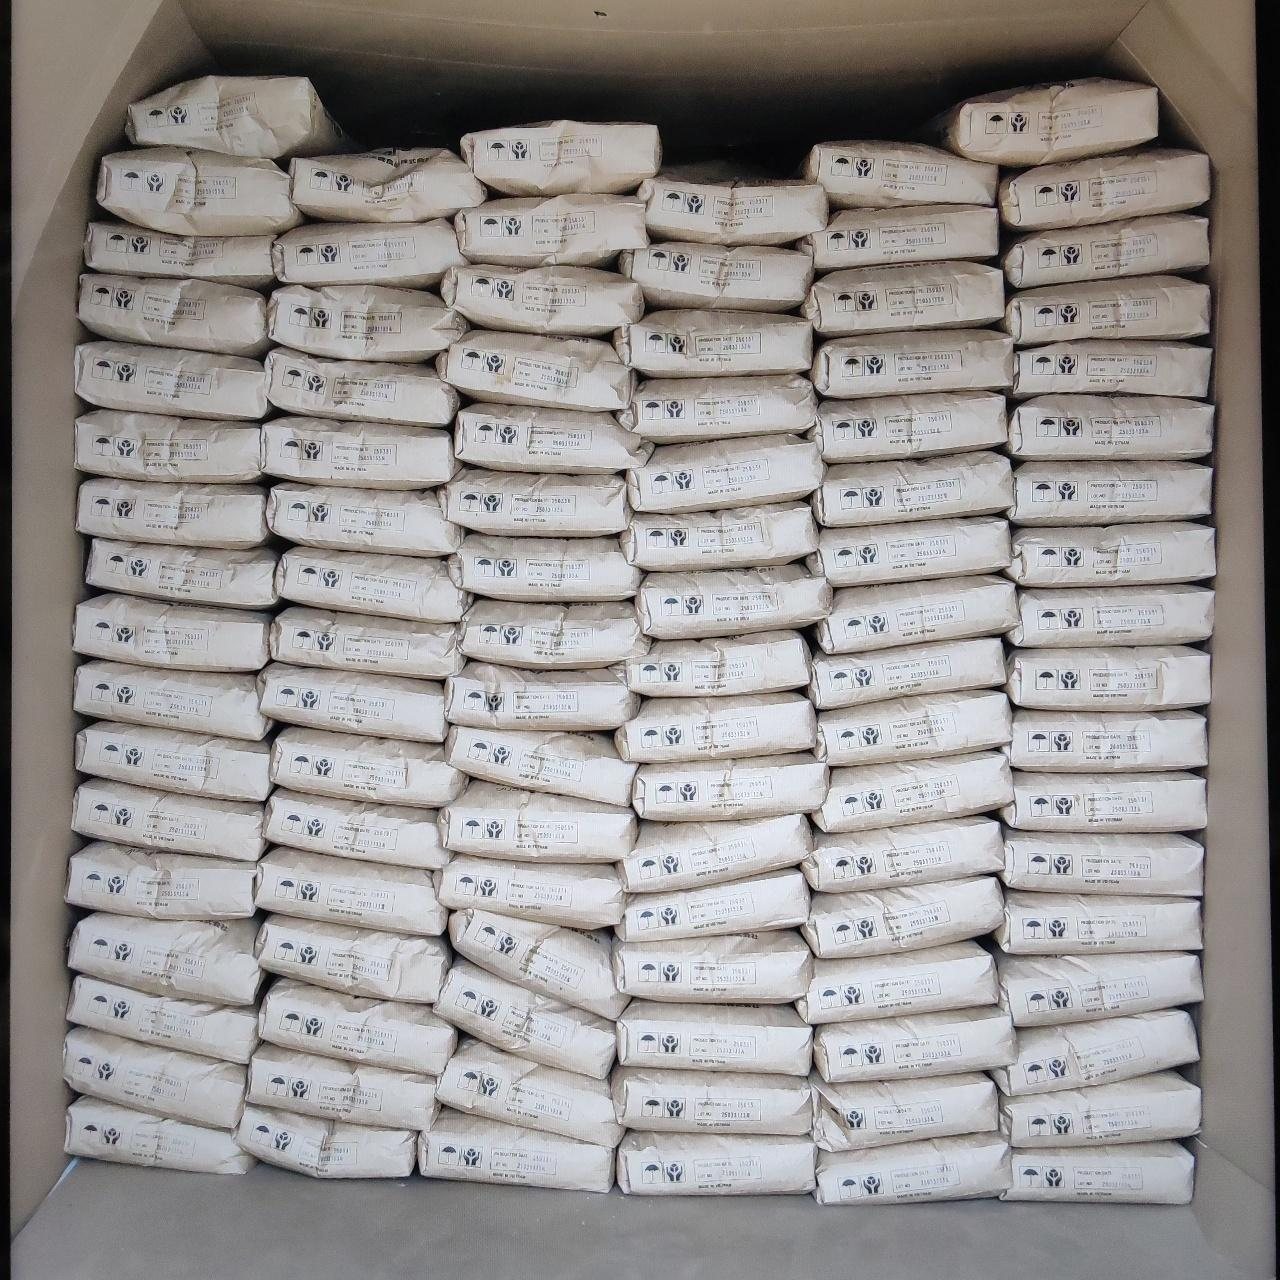sack: (436, 958, 614, 1076), (926, 80, 1156, 166), (440, 1039, 620, 1142), (450, 910, 622, 1016), (260, 978, 454, 1073), (128, 76, 346, 158), (66, 1028, 244, 1126), (70, 914, 263, 1005), (992, 1010, 1196, 1094), (100, 148, 300, 232), (258, 915, 450, 1002), (1000, 150, 1206, 230), (256, 847, 444, 934), (70, 976, 256, 1062), (798, 942, 996, 1022), (420, 1108, 612, 1190), (804, 876, 998, 956), (248, 1044, 438, 1126), (80, 274, 270, 356), (74, 778, 263, 860), (440, 782, 636, 860), (76, 660, 270, 738), (438, 331, 634, 408), (272, 728, 464, 806), (816, 576, 1014, 652), (816, 753, 1008, 830), (266, 348, 458, 425), (642, 164, 826, 244), (76, 342, 268, 418), (76, 594, 268, 670), (618, 813, 810, 890), (79, 722, 270, 798), (290, 148, 486, 222), (804, 816, 1000, 890), (448, 726, 632, 804), (816, 1006, 1014, 1078), (66, 1098, 254, 1175), (1002, 216, 1206, 286), (628, 436, 822, 510), (68, 842, 254, 918), (442, 264, 644, 334), (812, 452, 1010, 524), (260, 663, 445, 740), (266, 790, 445, 869), (270, 286, 467, 358), (278, 546, 468, 620), (812, 1074, 996, 1150), (638, 564, 830, 636), (816, 692, 1008, 764), (804, 264, 1002, 334), (462, 122, 660, 192), (998, 954, 1201, 1022), (614, 932, 810, 1002), (618, 1002, 810, 1074), (810, 638, 1005, 708), (612, 1065, 812, 1133), (1002, 1073, 1198, 1142), (1005, 275, 1206, 342), (808, 518, 1006, 586), (268, 484, 459, 554), (272, 606, 459, 678), (810, 394, 1006, 462), (618, 870, 806, 940), (264, 418, 458, 486), (816, 1132, 1006, 1201), (812, 331, 1012, 396), (620, 241, 812, 309), (438, 856, 624, 926), (632, 754, 826, 821), (79, 478, 268, 546), (624, 502, 813, 570), (456, 195, 646, 263), (1002, 830, 1201, 894), (456, 404, 651, 470), (620, 376, 813, 442), (76, 410, 263, 478), (459, 600, 646, 668), (1008, 396, 1212, 458), (996, 890, 1200, 952), (618, 694, 813, 758), (86, 540, 278, 606), (1008, 522, 1214, 583), (236, 1104, 414, 1175), (617, 309, 810, 374), (799, 206, 996, 270), (1008, 648, 1208, 710), (804, 142, 996, 206), (1010, 462, 1210, 524), (274, 220, 462, 286), (440, 470, 629, 535), (86, 220, 272, 286), (1008, 586, 1212, 646), (445, 662, 638, 726), (450, 535, 638, 598), (618, 1132, 813, 1192), (1005, 772, 1206, 830), (1006, 710, 1206, 768), (622, 632, 808, 694), (1012, 342, 1210, 399), (1005, 1142, 1190, 1201)
